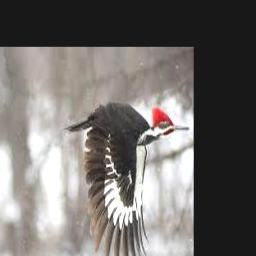Woodpecker: (65, 104, 190, 256)
